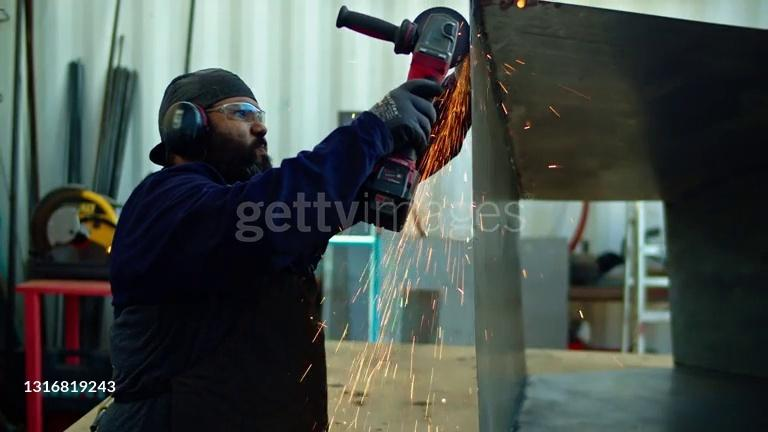person: (94, 69, 443, 432)
